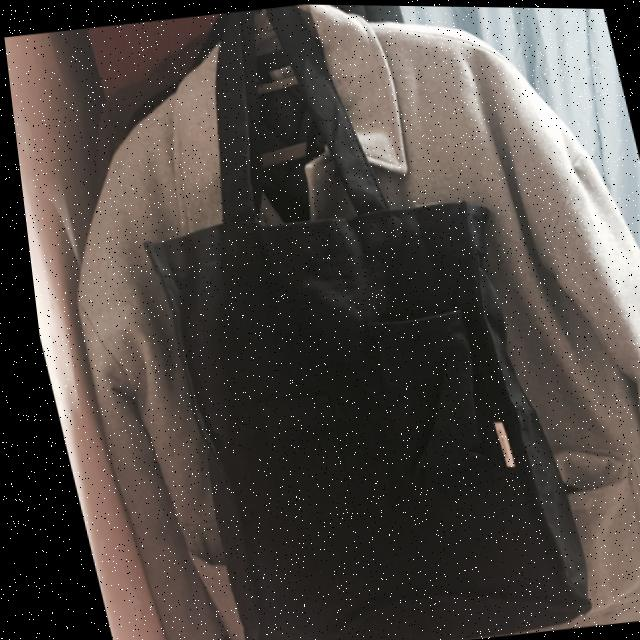ecobag: (82, 1, 600, 640)
